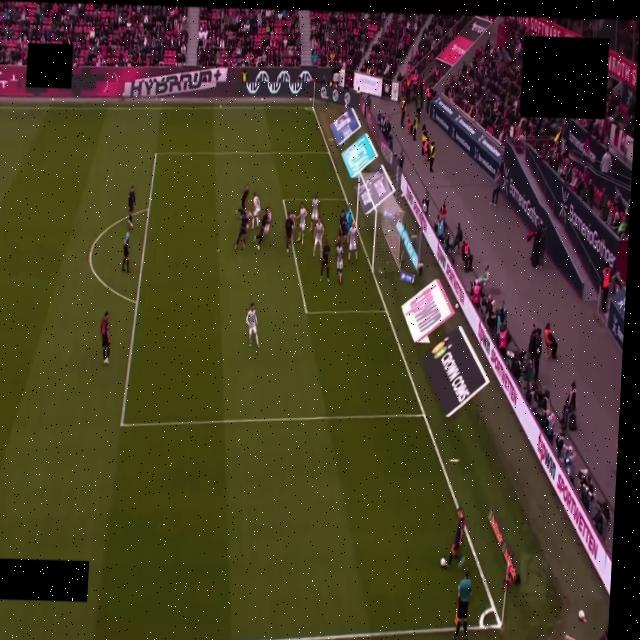ball: (440, 558, 446, 567)
player: (447, 508, 465, 567), (99, 311, 112, 365), (255, 208, 270, 249), (246, 304, 259, 348), (235, 210, 249, 249), (313, 219, 324, 258), (348, 221, 358, 263), (297, 203, 307, 244), (320, 242, 330, 282), (251, 192, 262, 228), (285, 212, 294, 252), (237, 184, 249, 214), (336, 243, 344, 284), (337, 210, 346, 243), (128, 186, 135, 225), (311, 195, 318, 231), (345, 206, 353, 233)
referee: (122, 225, 132, 272)
